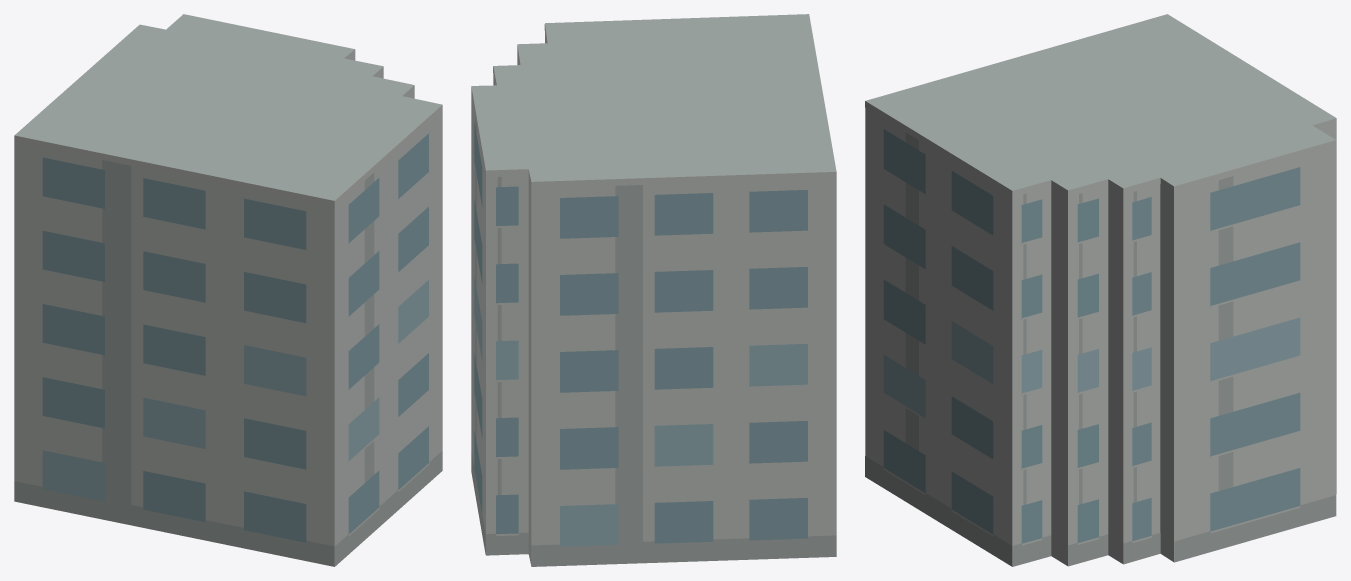
The model's file is survey-upis-32952550.glb.
The picture shows the model from 3 angles, left to right: view 1: azimuth 30°, elevation 25°; view 2: azimuth 150°, elevation 25°; view 3: azimuth 270°, elevation 25°; orthographic projection. The views are drawn at different scales.
Parts seen in each view (by area): view 1: survey-upis-32952550.tmp; view 2: survey-upis-32952550.tmp; view 3: survey-upis-32952550.tmp.
Part boxes in pixels (<box>): survey-upis-32952550.tmp: <box>14,14,442,566</box>; survey-upis-32952550.tmp: <box>471,14,836,566</box>; survey-upis-32952550.tmp: <box>865,14,1336,566</box>.
Size of the model in its own units: 14.03 by 13.9 by 15.81.
